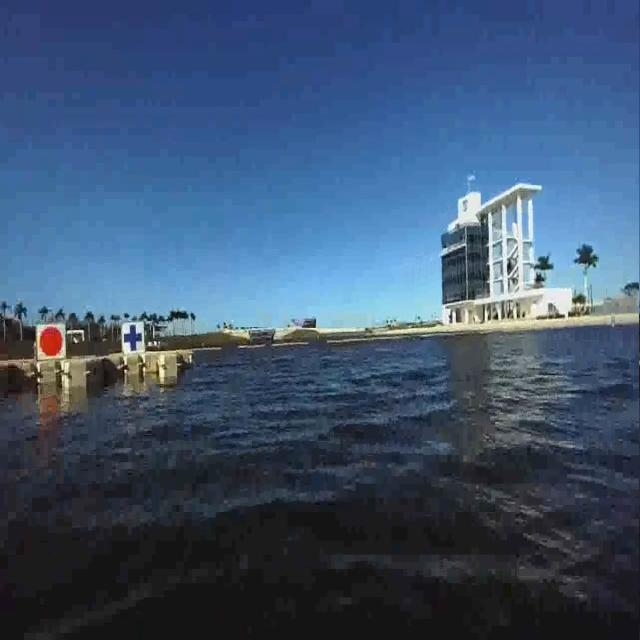blue-cross: (120, 314, 147, 358)
red-buoy: (33, 322, 69, 364)
yellow-buoy: (502, 580, 513, 598)
